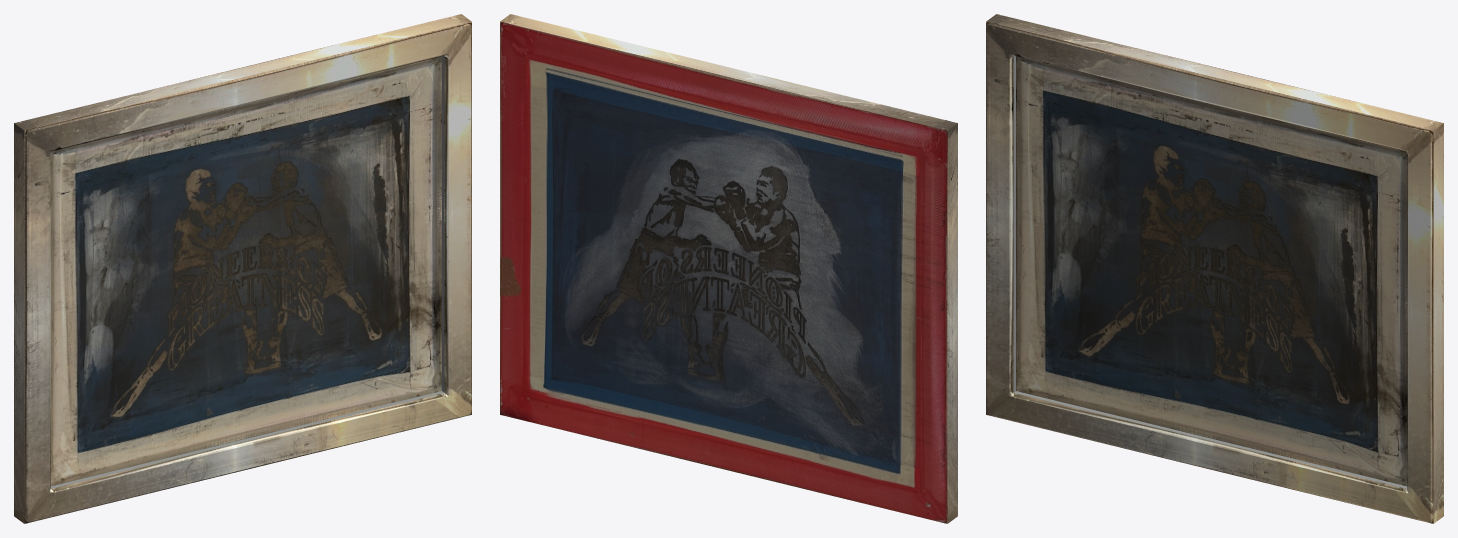
The model's file is 05-pioneers-of-greatness.glb.
The picture shows the model from 3 angles, left to right: view 1: azimuth 30°, elevation 25°; view 2: azimuth 150°, elevation 25°; view 3: azimuth 330°, elevation 25°; orthographic projection.
Visible parts, largest first — view 1: SCREEN_ORIGINAL_FRONT, FRAME_2_SURFACE_1, FRAME_0_SURFACE_1, FRAME_3_SURFACE_1, FRAME_1_SURFACE_1, FRAME_2_SURFACE_5, FRAME_3_SURFACE_5, FRAME_0_SURFACE_2, FRAME_1_SURFACE_2, FRAME_2_SURFACE_0, FRAME_3_SURFACE_0, FRAME_0_SURFACE_3 (+4 smaller); view 2: FLAT_ACTUAL_REVERSE, FRAME_2_SURFACE_5, FRAME_3_SURFACE_5; view 3: SCREEN_ORIGINAL_FRONT, FRAME_2_SURFACE_1, FRAME_0_SURFACE_1, FRAME_1_SURFACE_1, FRAME_3_SURFACE_1, FRAME_2_SURFACE_5, FRAME_1_SURFACE_5, FRAME_0_SURFACE_2, FRAME_3_SURFACE_2, FRAME_2_SURFACE_0, FRAME_1_SURFACE_0, FRAME_0_SURFACE_3 (+4 smaller).
Part boxes in pixels (left/top/right/bottom): SCREEN_ORIGINAL_FRONT: left=50, top=56, right=441, bottom=486; FRAME_2_SURFACE_1: left=28, top=24, right=470, bottom=150; FRAME_0_SURFACE_1: left=28, top=396, right=470, bottom=521; FRAME_3_SURFACE_1: left=27, top=133, right=49, bottom=521; FRAME_1_SURFACE_1: left=448, top=25, right=470, bottom=413; FRAME_2_SURFACE_5: left=14, top=14, right=471, bottom=130; FRAME_3_SURFACE_5: left=14, top=123, right=24, bottom=523; FRAME_0_SURFACE_2: left=49, top=393, right=448, bottom=493; FRAME_1_SURFACE_2: left=444, top=53, right=448, bottom=395; FRAME_2_SURFACE_0: left=25, top=21, right=471, bottom=132; FRAME_3_SURFACE_0: left=24, top=131, right=27, bottom=523; FRAME_0_SURFACE_3: left=50, top=391, right=443, bottom=488; FLAT_ACTUAL_REVERSE: left=500, top=21, right=947, bottom=523; FRAME_2_SURFACE_5: left=500, top=14, right=957, bottom=130; FRAME_3_SURFACE_5: left=947, top=123, right=957, bottom=523; SCREEN_ORIGINAL_FRONT: left=1016, top=56, right=1407, bottom=486; FRAME_2_SURFACE_1: left=987, top=24, right=1429, bottom=150; FRAME_0_SURFACE_1: left=987, top=396, right=1429, bottom=521; FRAME_1_SURFACE_1: left=1408, top=133, right=1430, bottom=521; FRAME_3_SURFACE_1: left=987, top=25, right=1009, bottom=413; FRAME_2_SURFACE_5: left=986, top=14, right=1443, bottom=130; FRAME_1_SURFACE_5: left=1433, top=123, right=1443, bottom=523; FRAME_0_SURFACE_2: left=1009, top=393, right=1408, bottom=493; FRAME_3_SURFACE_2: left=1009, top=53, right=1013, bottom=395; FRAME_2_SURFACE_0: left=986, top=21, right=1432, bottom=132; FRAME_1_SURFACE_0: left=1430, top=131, right=1433, bottom=523; FRAME_0_SURFACE_3: left=1014, top=391, right=1407, bottom=488.
Size of the model in its own units: 0.5 by 0.42 by 0.022.
Materials: 3 (2 with a texture image).
